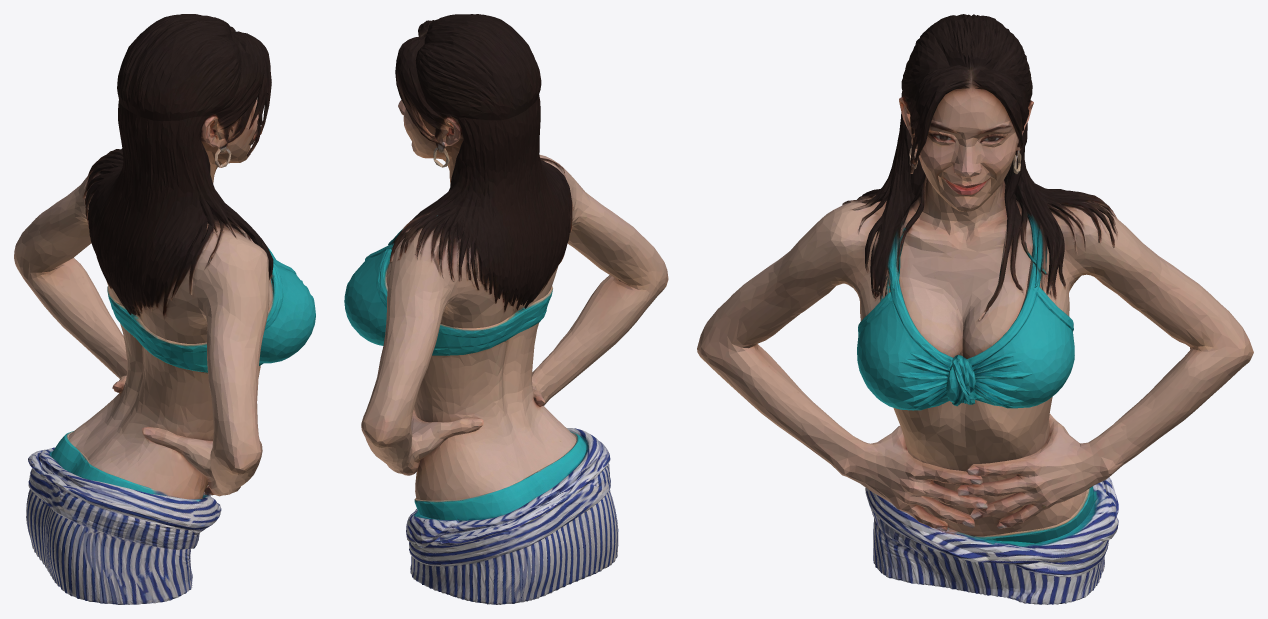
File: girl5.glb
The picture shows the model from 3 angles, left to right: view 1: azimuth 30°, elevation 25°; view 2: azimuth 150°, elevation 25°; view 3: azimuth 270°, elevation 25°; orthographic projection. The views are drawn at different scales.
Parts seen in each view (by area): view 1: tripo_node_2ff16588-cd60-4909-ab94-2ce8374be633; view 2: tripo_node_2ff16588-cd60-4909-ab94-2ce8374be633; view 3: tripo_node_2ff16588-cd60-4909-ab94-2ce8374be633.
Part boxes in pixels (bbox=[...]): tripo_node_2ff16588-cd60-4909-ab94-2ce8374be633: bbox=[14, 14, 315, 604]; tripo_node_2ff16588-cd60-4909-ab94-2ce8374be633: bbox=[344, 14, 668, 604]; tripo_node_2ff16588-cd60-4909-ab94-2ce8374be633: bbox=[697, 14, 1253, 604].
Bounding box in the file's own units: 0.4675 × 0.9803 × 0.8628.
1 material, 1 textured.
